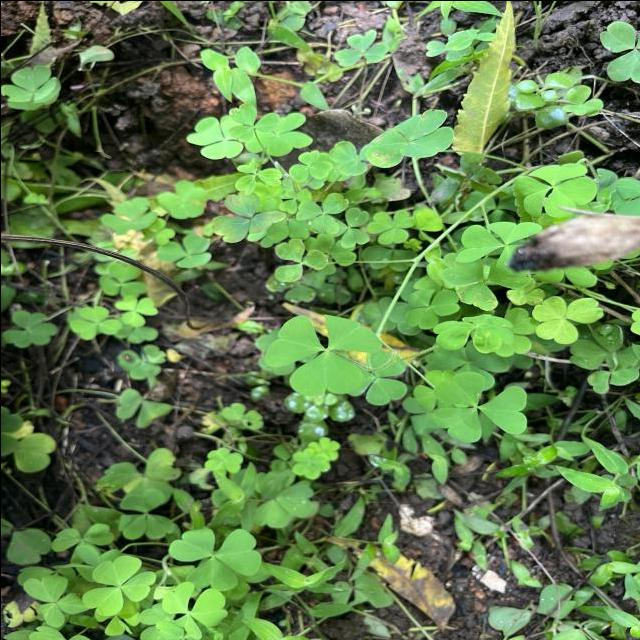Oxalis corniculata: (263, 312, 382, 396), (428, 370, 528, 443), (165, 525, 261, 589), (363, 107, 454, 168), (81, 553, 156, 616), (514, 161, 596, 218), (160, 579, 229, 640), (209, 190, 286, 243), (530, 294, 604, 344), (432, 311, 514, 354), (0, 64, 61, 108), (399, 288, 459, 330), (272, 238, 328, 282), (294, 191, 348, 234), (226, 101, 281, 142), (1, 309, 58, 347), (332, 28, 388, 66), (226, 158, 282, 194), (68, 304, 122, 340), (156, 233, 210, 268), (365, 208, 414, 244), (288, 148, 332, 182), (114, 294, 158, 327)
